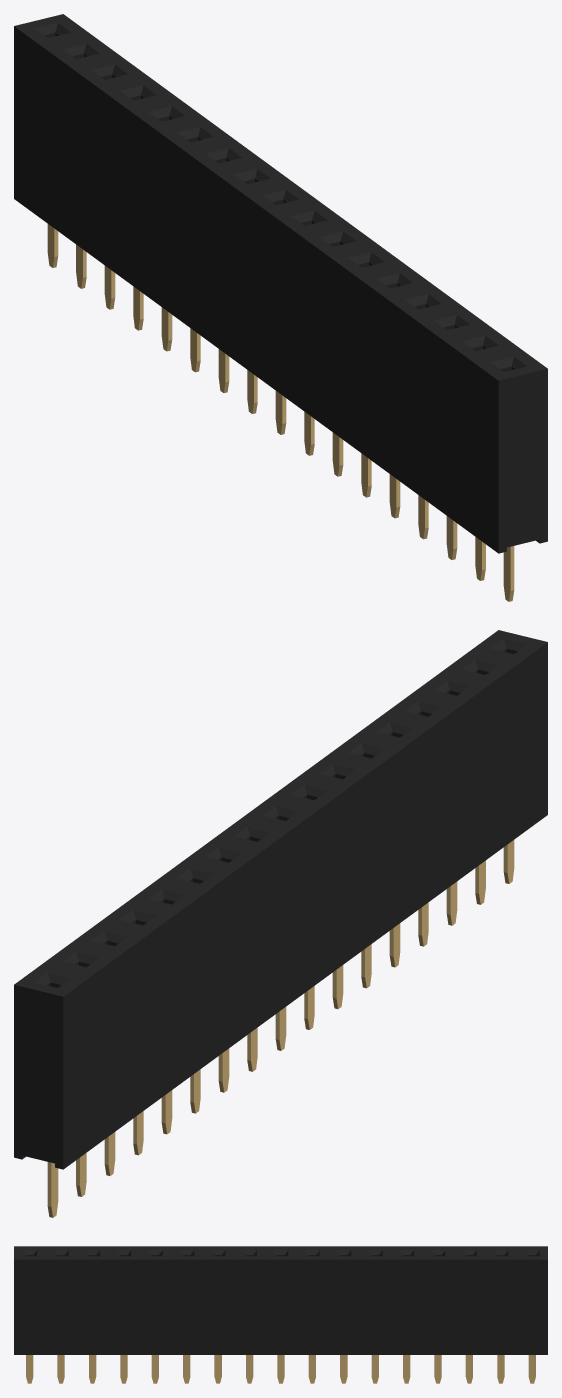
The model's file is kc-pinsocket_1x17_p2.54mm_vertical.glb.
3 views of the same model, one above another, from view 1: azimuth 30°, elevation 25°; view 2: azimuth 150°, elevation 25°; view 3: azimuth 270°, elevation 25° (orthographic). The views are drawn at different scales.
Visible parts, largest first — view 1: 0_0_0_0, 0.75_0.5_0.25_0.9; view 2: 0_0_0_0, 0.75_0.5_0.25_0.9; view 3: 0_0_0_0, 0.75_0.5_0.25_0.9.
Part boxes in pixels (x1,y1,x2,y2): 0_0_0_0: (14,14,547,553); 0.75_0.5_0.25_0.9: (47,224,514,601); 0_0_0_0: (14,630,547,1169); 0.75_0.5_0.25_0.9: (47,840,514,1217); 0_0_0_0: (14,1246,547,1354); 0.75_0.5_0.25_0.9: (26,1355,535,1383).
Bounding box in the file's own units: 0.2541 × 1.16 × 4.32.
